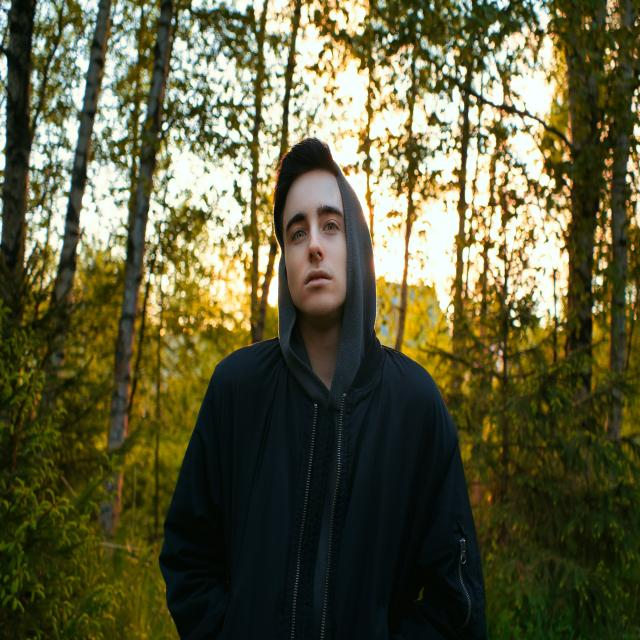4_capucha: (277, 167, 385, 410)
